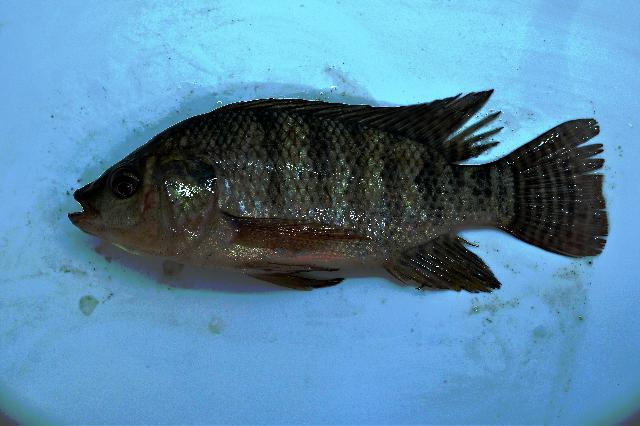Columnaris Disease: (69, 91, 607, 292)
